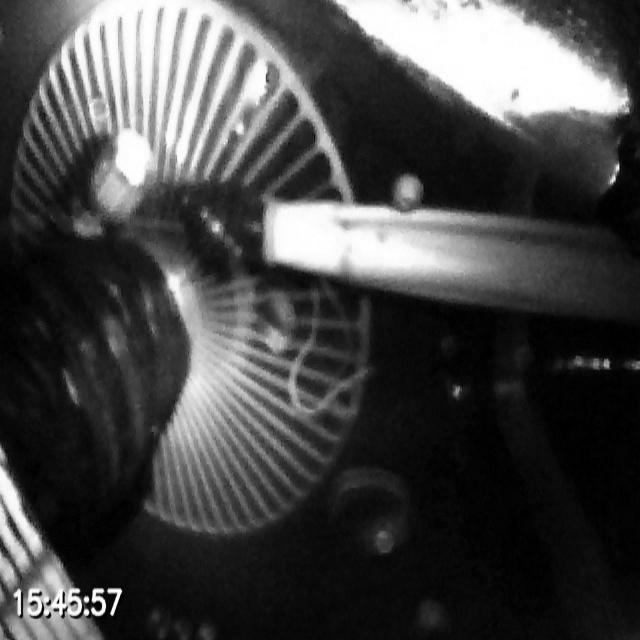head: (75, 128, 157, 235)
